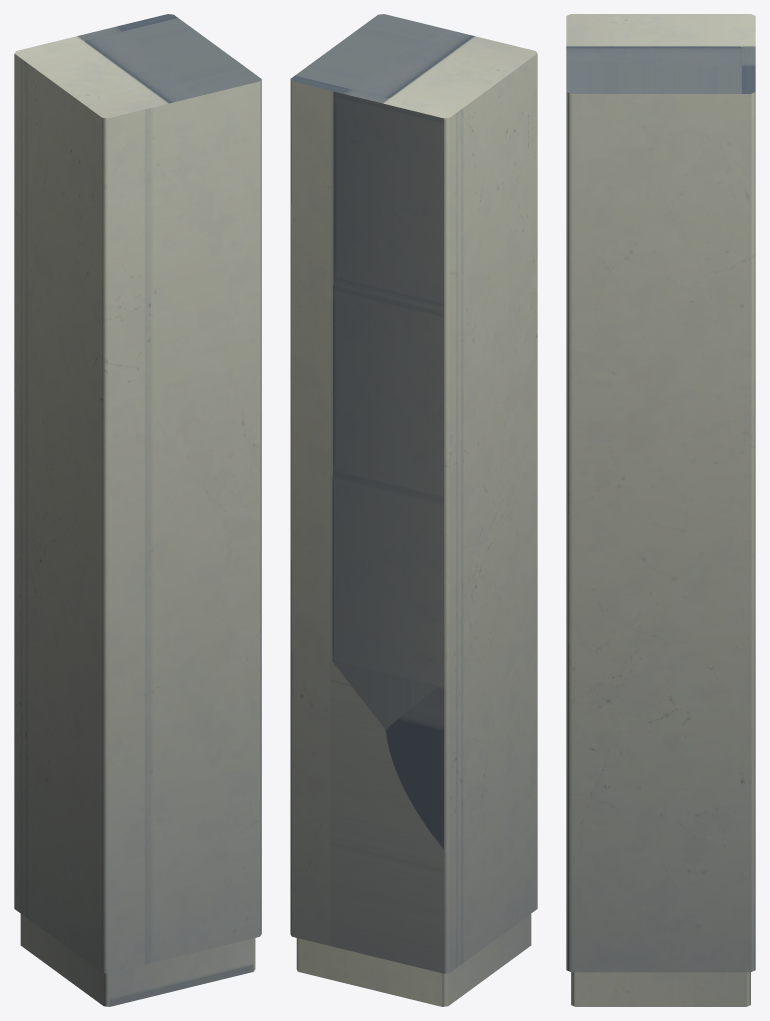
The model's file is ReceptionPillar.fbx.
3 renders of one model, left to right at view 1: azimuth 30°, elevation 25°; view 2: azimuth 150°, elevation 25°; view 3: azimuth 270°, elevation 25°, orthographic. The views are drawn at different scales.
Parts seen in each view (by area): view 1: pCube11; view 2: pCube11; view 3: pCube11.
Part boxes in pixels (x1,y1,x2,y2): pCube11: (14, 14, 261, 1006); pCube11: (290, 14, 537, 1006); pCube11: (566, 14, 755, 1006).
Bounding box in the file's own units: 109 × 580 × 109.
Materials: 1 (1 with a texture image).
